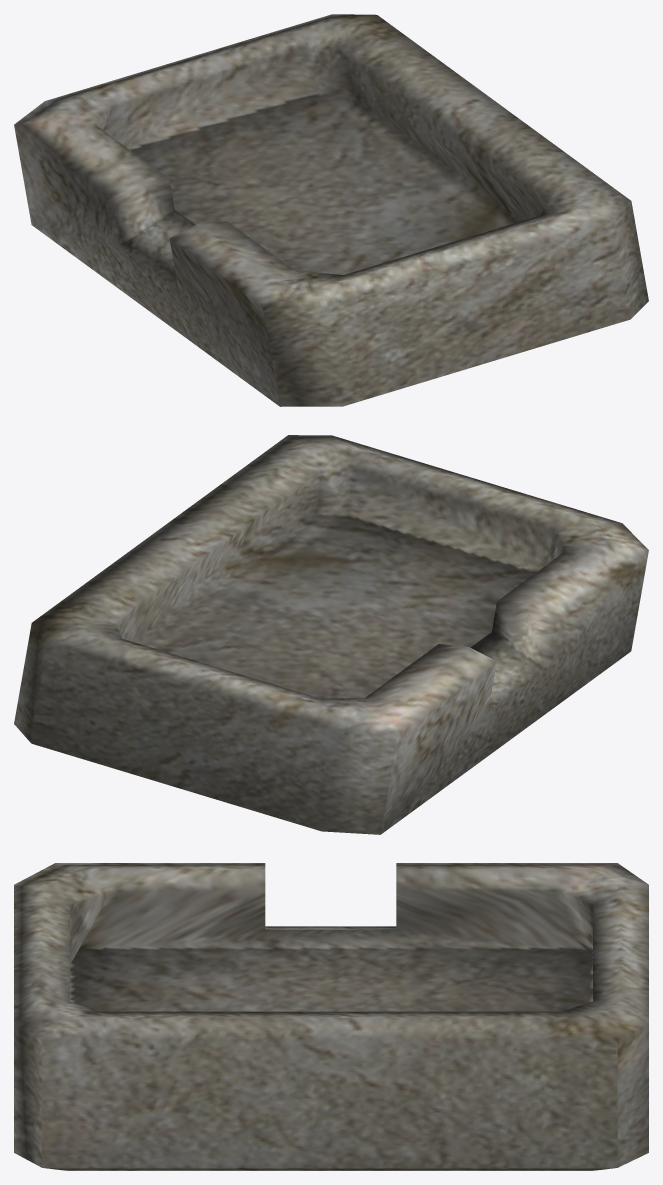
File: Fountain_Trays_02.fbx
3 renders of one model, top to bottom at view 1: azimuth 30°, elevation 25°; view 2: azimuth 150°, elevation 25°; view 3: azimuth 270°, elevation 25°, orthographic. The views are drawn at different scales.
Visible parts, largest first — view 1: polySurface3; view 2: polySurface3; view 3: polySurface3.
Part boxes in pixels (box(x1,y1,x2,y2)): polySurface3: box(14, 14, 648, 406); polySurface3: box(14, 435, 648, 834); polySurface3: box(14, 863, 648, 1170).
Bounding box in the file's own units: 0.7888 × 0.2727 × 1.01.
Materials: 1 (1 with a texture image).
